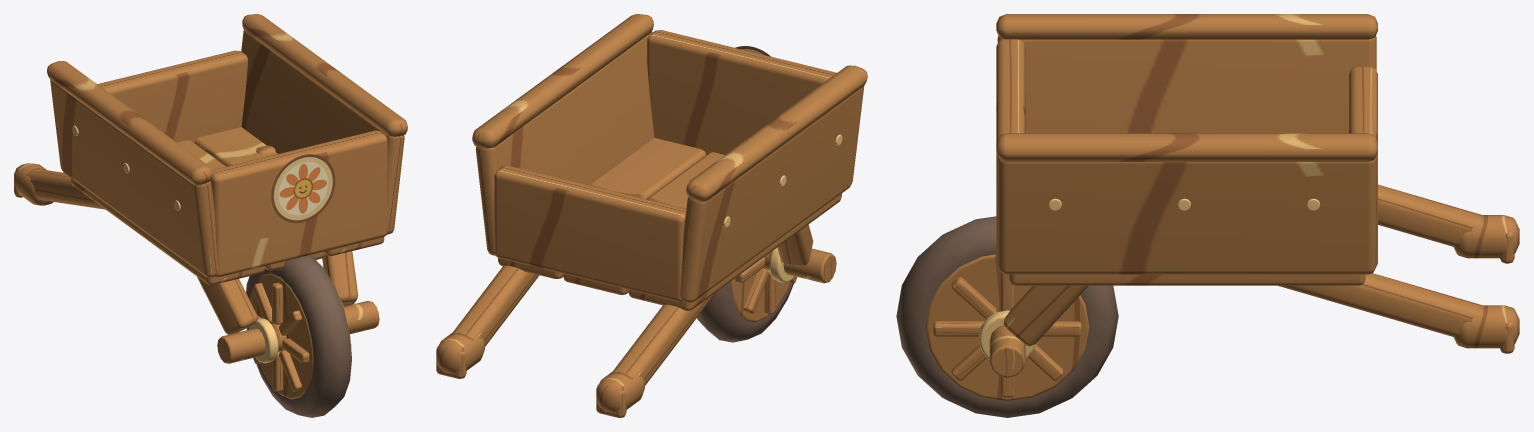
File: asset.glb
The picture shows the model from 3 angles, left to right: view 1: azimuth 30°, elevation 25°; view 2: azimuth 150°, elevation 25°; view 3: azimuth 270°, elevation 25°; orthographic projection. The views are drawn at different scales.
Visible parts, largest first — view 1: Front tray board, Left tray wall, Right tray wall, Rear tray board, Single sturdy wheel tread, Left rounded rim rail, Right rounded rim rail, Cheerful painted flower badge, Solid wooden wheel core, Solid axle, Tray floor plank 2, Left wheelbarrow support (+11 smaller); view 2: Rear tray board, Left tray wall, Front tray board, Right tray wall, Left rounded rim rail, Right rounded rim rail, Tray floor plank 2, Left long handle, Right long handle, Single sturdy wheel tread, Tray floor plank 1, Tray floor plank 0 (+8 smaller); view 3: Right tray wall, Left tray wall, Single sturdy wheel tread, Right rounded rim rail, Left rounded rim rail, Solid wooden wheel core, Right long handle, Tray floor plank 2, Left long handle, Front tray board, Right wheelbarrow support, Rear tray board (+8 smaller).
Part boxes in pixels (box(x1,y1,x2,y2)): Front tray board: box(211, 130, 387, 276); Left tray wall: box(50, 80, 217, 277); Right tray wall: box(241, 30, 404, 234); Rear tray board: box(97, 50, 248, 142); Single sturdy wheel tread: box(246, 255, 351, 417); Left rounded rim rail: box(47, 61, 212, 185); Right rounded rim rail: box(242, 14, 407, 136); Cheerful painted flower badge: box(271, 154, 335, 222); Solid wooden wheel core: box(250, 273, 313, 399); Solid axle: box(217, 301, 379, 363); Tray floor plank 2: box(194, 127, 384, 255); Left wheelbarrow support: box(197, 276, 257, 334); Rear tray board: box(494, 165, 686, 301); Left tray wall: box(680, 86, 864, 302); Front tray board: box(647, 30, 836, 154); Right tray wall: box(475, 32, 654, 255); Left rounded rim rail: box(686, 65, 867, 201); Right rounded rim rail: box(472, 14, 653, 148); Tray floor plank 2: box(498, 138, 705, 278); Left long handle: box(612, 292, 716, 385); Right long handle: box(452, 265, 539, 346); Single sturdy wheel tread: box(697, 281, 793, 342); Tray floor plank 1: box(563, 152, 724, 294); Tray floor plank 0: box(628, 193, 841, 310); Right tray wall: box(997, 156, 1376, 274); Left tray wall: box(997, 36, 1376, 133); Single sturdy wheel tread: box(896, 216, 1118, 417); Right rounded rim rail: box(996, 133, 1377, 161); Left rounded rim rail: box(996, 14, 1377, 39); Solid wooden wheel core: box(925, 254, 1089, 400); Right long handle: box(1278, 273, 1483, 337); Tray floor plank 2: box(1009, 274, 1365, 285); Left long handle: box(1378, 184, 1483, 247); Front tray board: box(996, 39, 1025, 268); Right wheelbarrow support: box(1003, 285, 1088, 346); Rear tray board: box(1349, 67, 1377, 265).
Bounding box in the file's own units: 0.5634 × 0.6705 × 1.11.
Materials: 6 (4 with a texture image).
